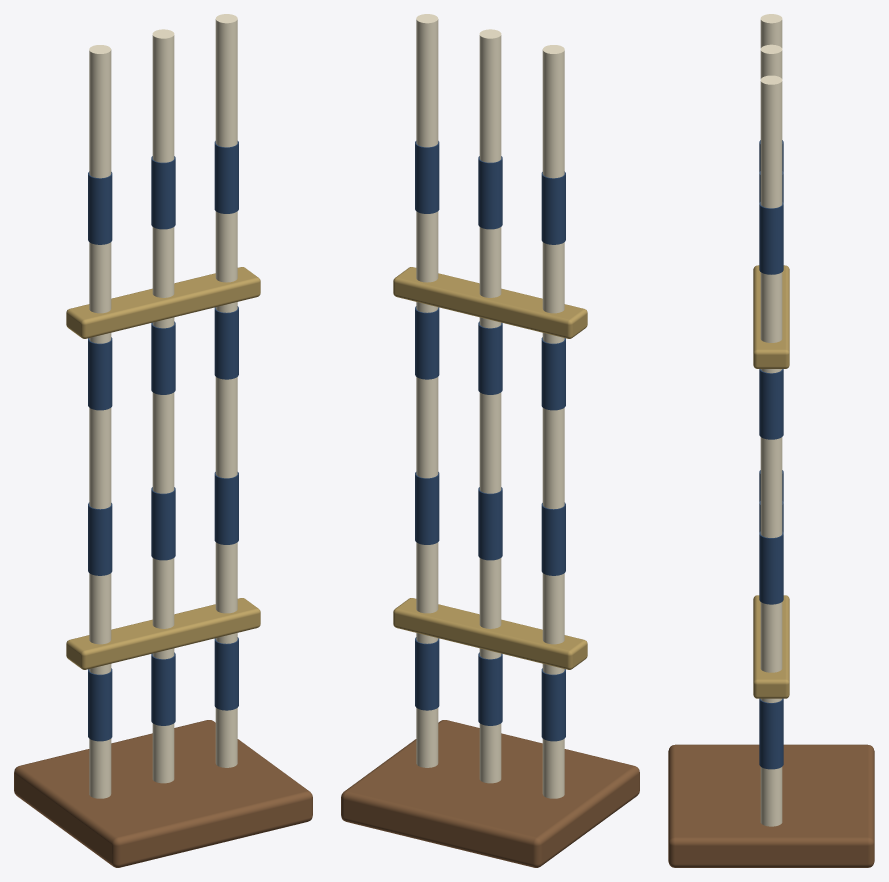
Rendered from fantasy-cartographers-map-printing-guild-range-pole-bu-b5ec6602__32238.glb.
3 views of the same model, side by side, from view 1: azimuth 30°, elevation 25°; view 2: azimuth 150°, elevation 25°; view 3: azimuth 270°, elevation 25° (orthographic).
Visible parts, largest first — view 1: range-pole-bundle; view 2: range-pole-bundle; view 3: range-pole-bundle.
Part boxes in pixels (box(x1,y1,x2,y2)): range-pole-bundle: box(14, 14, 312, 867); range-pole-bundle: box(341, 14, 639, 867); range-pole-bundle: box(668, 14, 874, 867).
Bounding box in the file's own units: 0.38 × 1.41 × 0.34.
